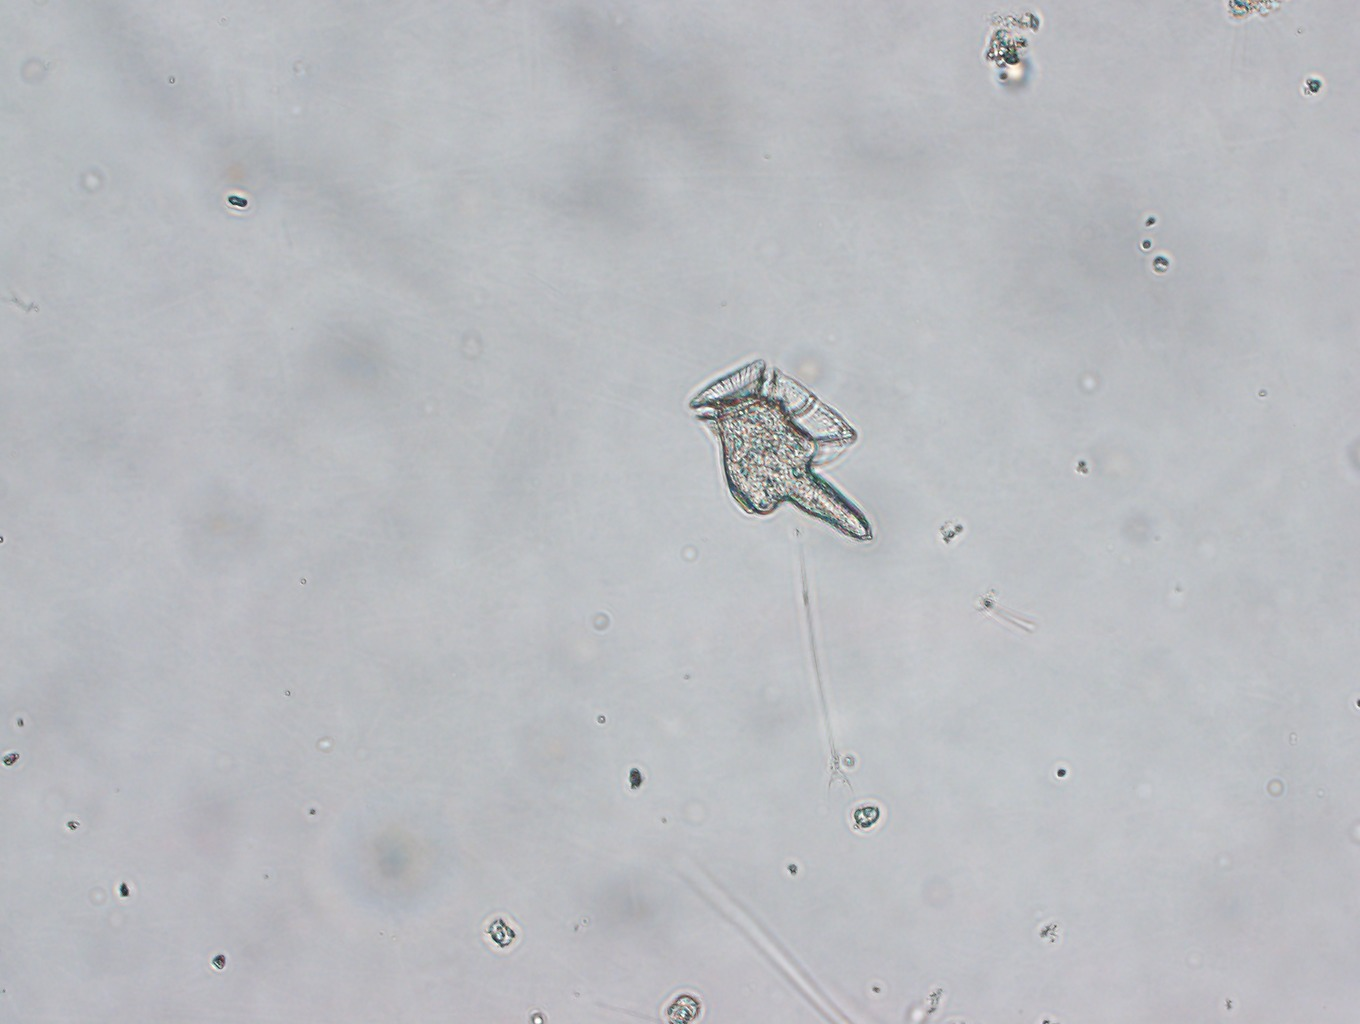dinophysis caudata: (677, 343, 876, 547)
